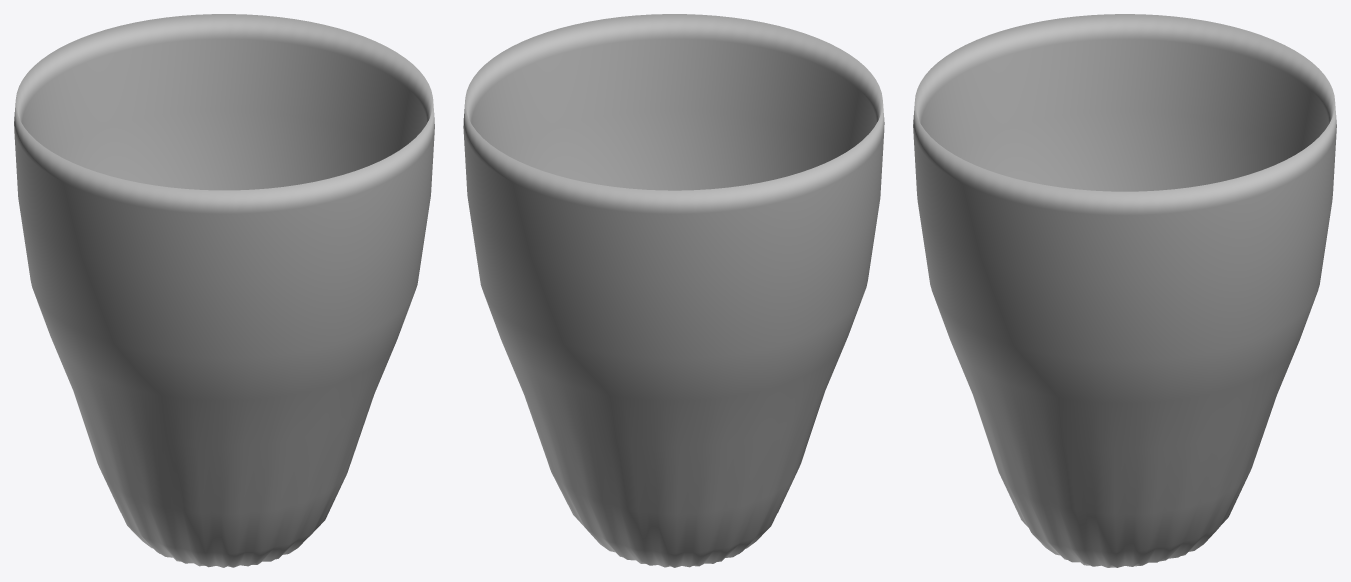
File: Vaso1.fbx
The picture shows the model from 3 angles, left to right: view 1: azimuth 30°, elevation 25°; view 2: azimuth 150°, elevation 25°; view 3: azimuth 270°, elevation 25°; orthographic projection.
Parts seen in each view (by area): view 1: Vaso1; view 2: Vaso1; view 3: Vaso1.
Boxes of the visible parts, left/top/right/bottom form: Vaso1: left=14, top=14, right=434, bottom=567; Vaso1: left=463, top=14, right=884, bottom=567; Vaso1: left=913, top=14, right=1336, bottom=567.
Bounding box in the file's own units: 29.04 × 33.45 × 29.04.
Materials: 1 (1 with a texture image).
